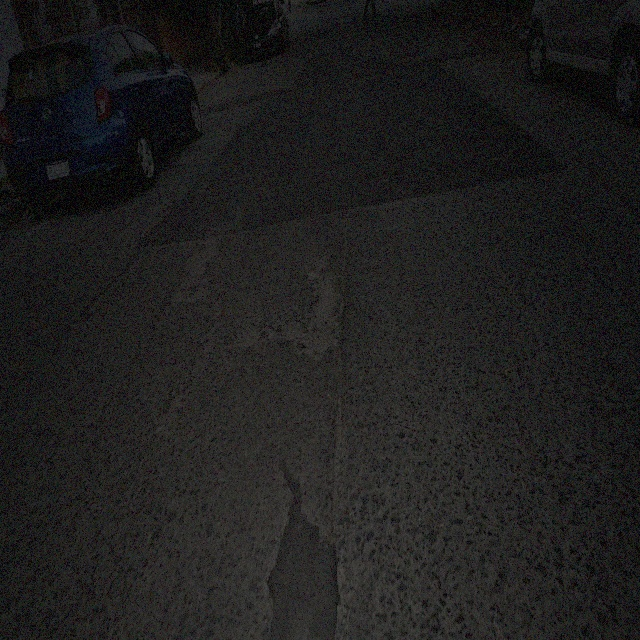pothole: (289, 252, 350, 360), (168, 229, 218, 305), (155, 377, 199, 435), (231, 314, 264, 349), (367, 170, 395, 187)
